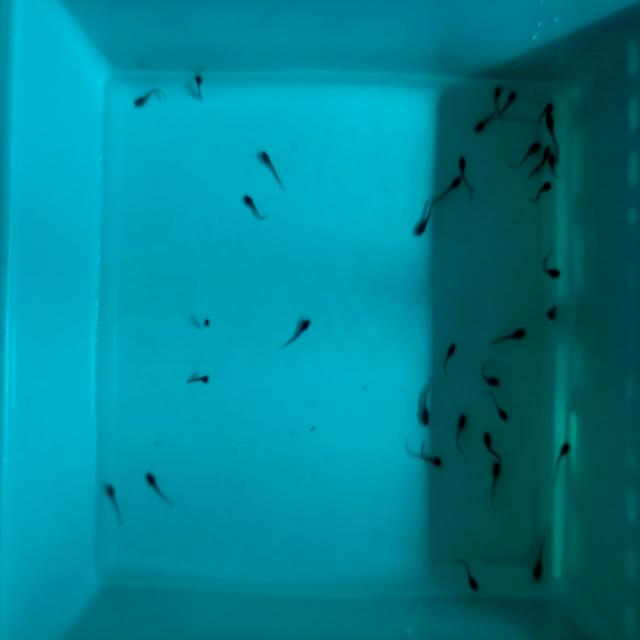lele: (278, 315, 315, 353), (258, 149, 288, 193), (455, 556, 482, 602), (481, 387, 512, 427), (528, 533, 550, 587), (143, 471, 173, 510), (478, 424, 505, 467), (546, 440, 572, 484), (509, 139, 542, 173), (487, 323, 527, 351), (432, 173, 464, 208), (525, 144, 552, 183), (410, 203, 437, 241), (526, 178, 555, 211), (242, 192, 269, 227), (132, 83, 164, 112), (438, 341, 460, 382), (415, 442, 445, 472), (457, 153, 474, 203), (104, 482, 124, 523), (544, 113, 561, 161), (538, 254, 563, 286), (496, 88, 518, 123), (477, 365, 503, 393), (456, 413, 468, 465), (474, 111, 497, 138), (488, 462, 500, 513), (420, 383, 432, 429), (547, 152, 561, 186), (536, 100, 555, 125), (192, 74, 207, 104), (184, 373, 210, 390), (545, 300, 563, 323), (494, 86, 502, 116), (194, 318, 212, 328)
